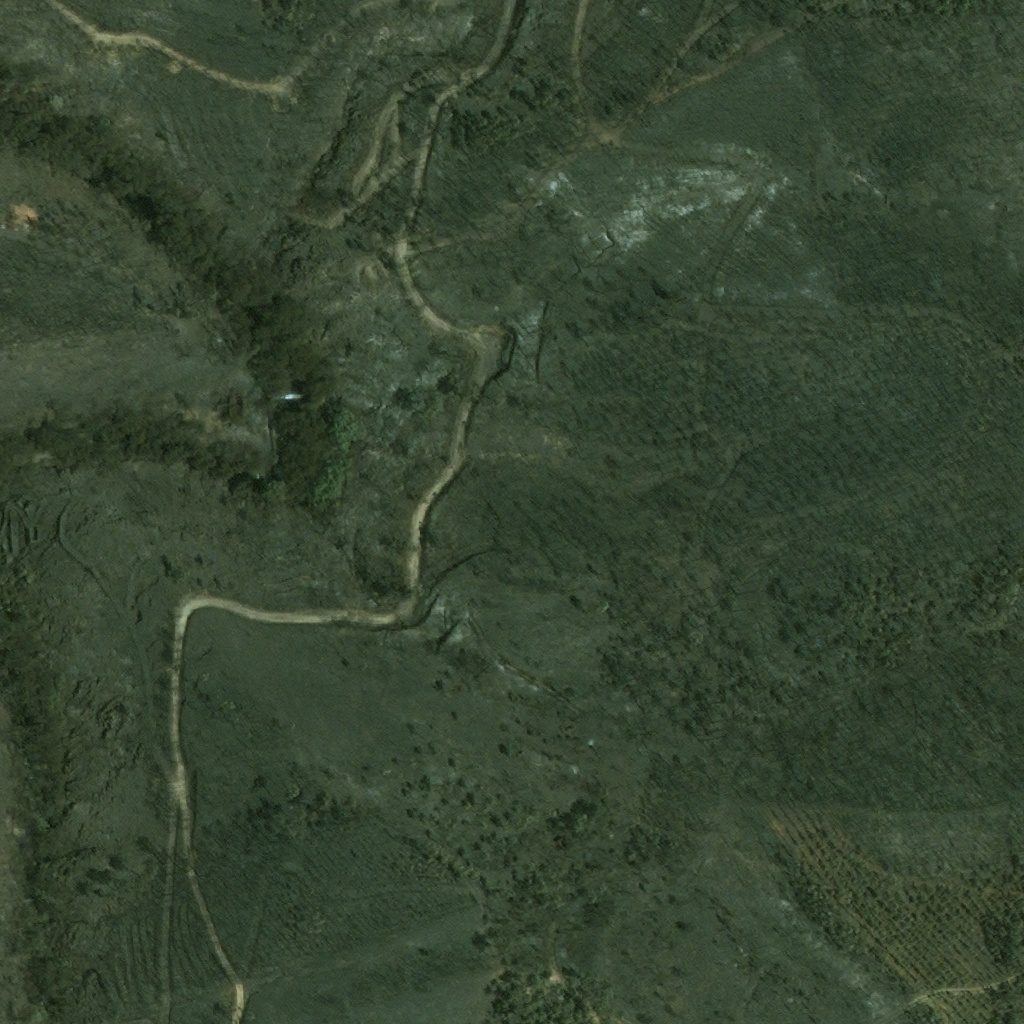3 destroyed: (273, 391, 309, 407)
